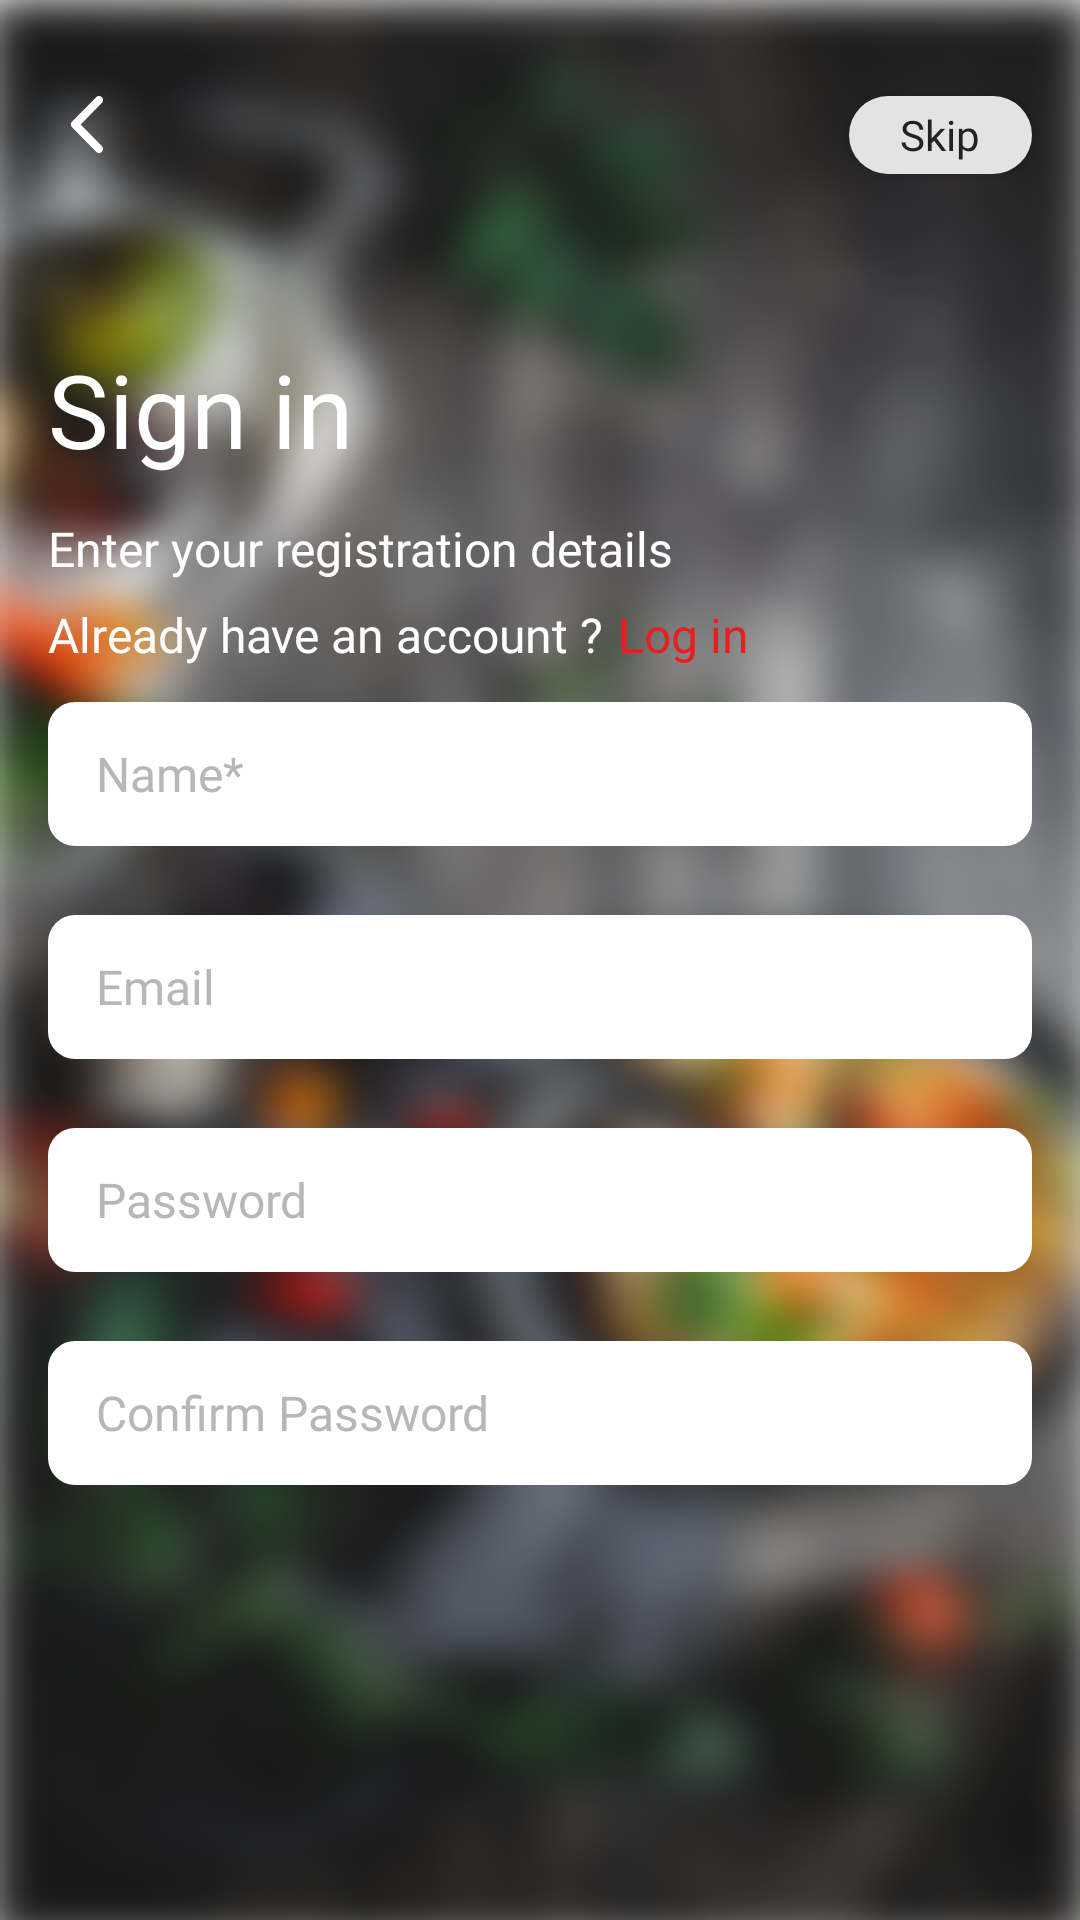

Icon click points for this 1080 × 1920 phone screenshot, format point (x, y):
arrow back: point (87, 124)
